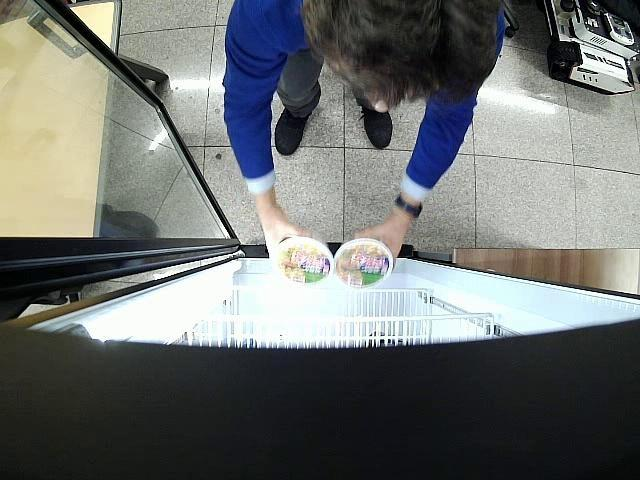09_yukGaeJang: (276, 229, 334, 286), (335, 237, 395, 288)
